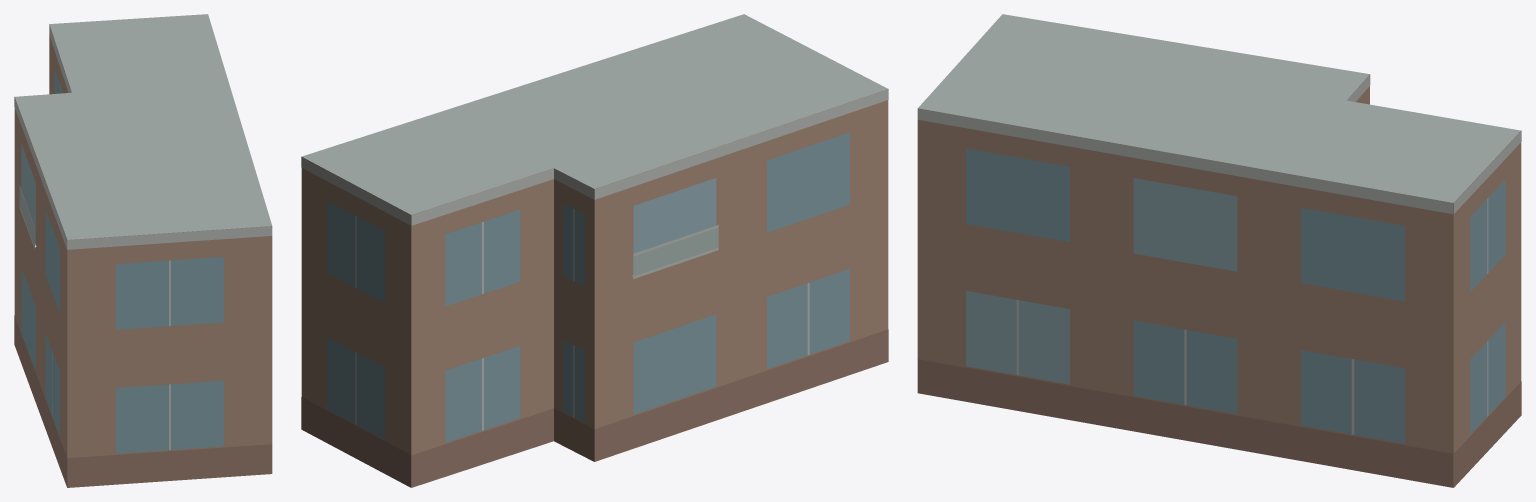
File: survey-upis-32584191.glb
3 renders of one model, left to right at view 1: azimuth 30°, elevation 25°; view 2: azimuth 150°, elevation 25°; view 3: azimuth 270°, elevation 25°, orthographic. The views are drawn at different scales.
Parts seen in each view (by area): view 1: survey-upis-32584191.tmp; view 2: survey-upis-32584191.tmp; view 3: survey-upis-32584191.tmp.
Boxes of the visible parts, x1=… form: survey-upis-32584191.tmp: x1=14, y1=14, x2=272, y2=487; survey-upis-32584191.tmp: x1=301, y1=14, x2=888, y2=487; survey-upis-32584191.tmp: x1=917, y1=14, x2=1521, y2=487.
Size of the model in its own units: 8.69 by 6.1 by 11.72.
